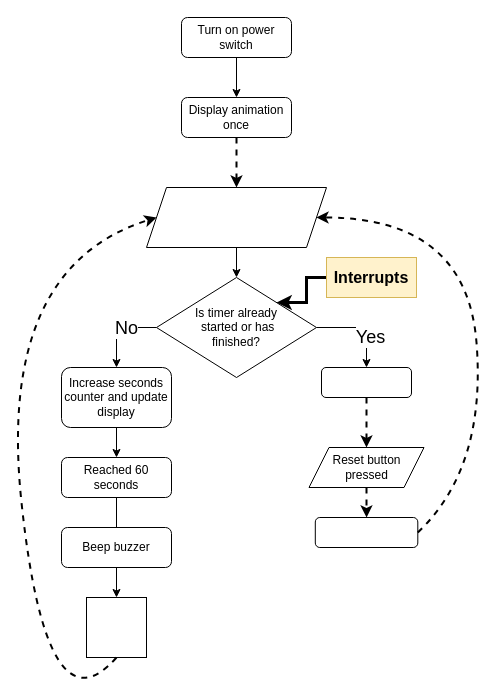
Some shapes in this 496 by 696 pixel diagram are drawn without their labels. Here are the shapes that lost their labels. From the top down, the centre of each, then its label:
(236,217): Start/Stop button pressed
(366,382): Stop/Start timer
(366,532): Reset timer
(116,627): Stop
